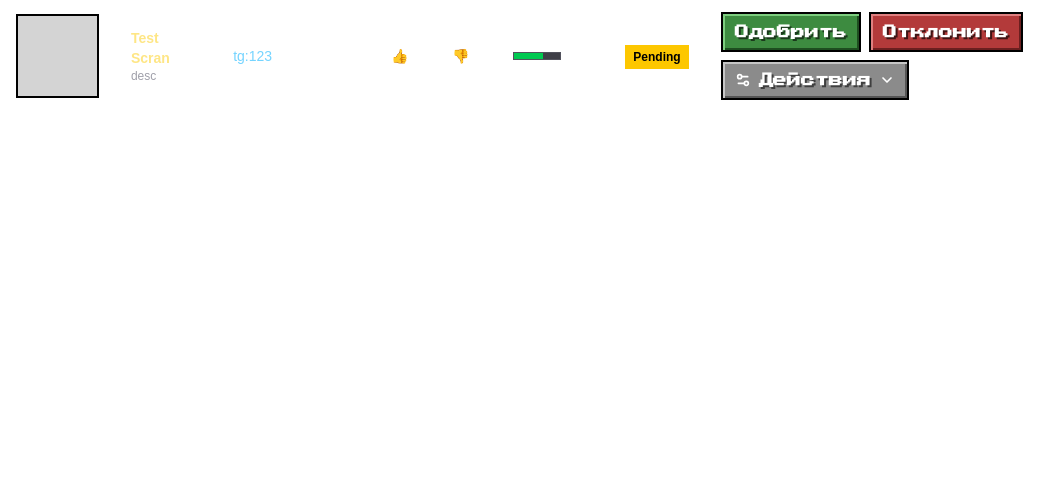
ScranRow permissions (Moderator vs Admin) › shows Delete only inside the admin actions menu
The image size is (1040, 488).
Check: the text "Удалить" is not shown
Click the button with aria-label "Действия для Test Scran": (815, 80) [721,60,909,100]
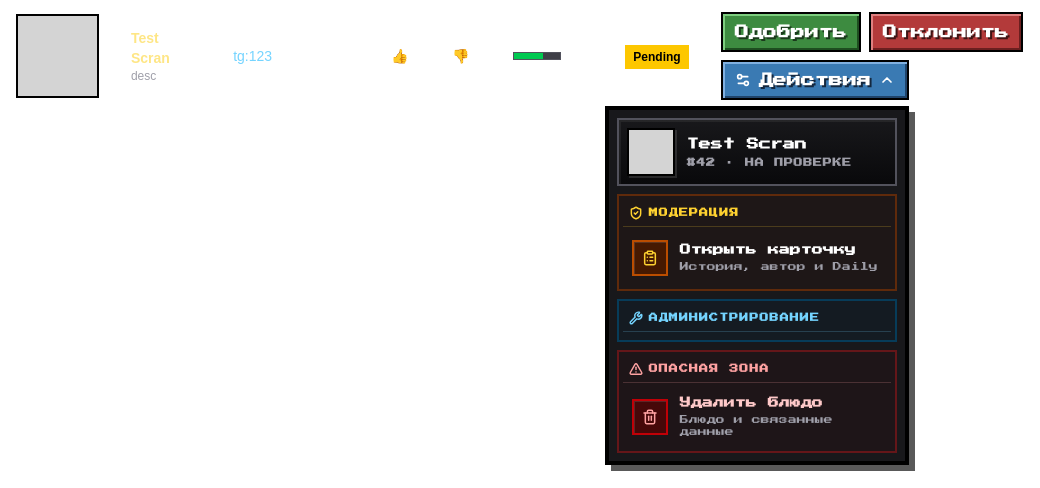
Check: the button "Одобрить" is shown, box [721,12,861,52]
Check: the text "Удалить блюдо" is shown, box [680,397,823,408]
